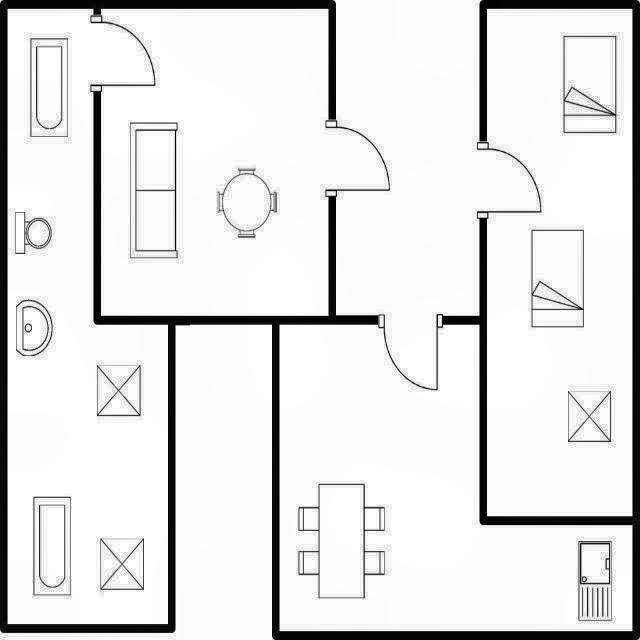room: (279, 324, 633, 631), (8, 9, 168, 624), (487, 9, 632, 517), (101, 9, 328, 315)
